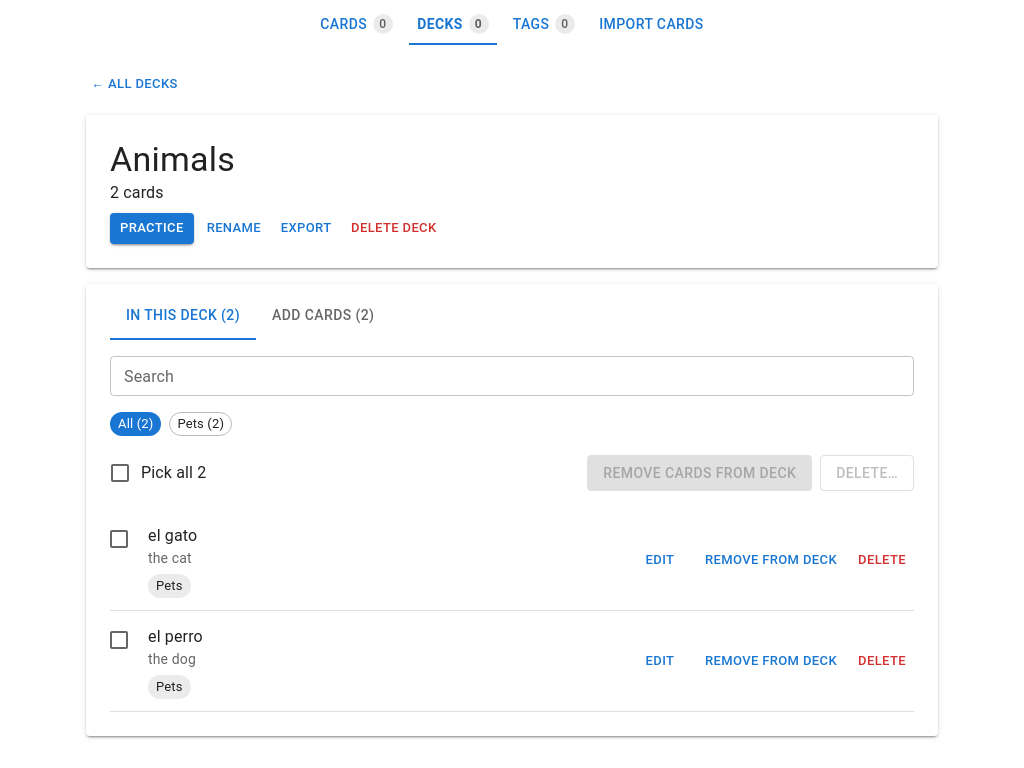
decks › a deck's page › removes a card from the deck with its own button, keeping the card
This screenshot has width=1024, height=768.
(page scrolled)
Step 1. Click the button named "Remove from deck: \"el gato\"" → [771, 560], box x1=700 y1=545 x2=842 y2=576
(page scrolled)
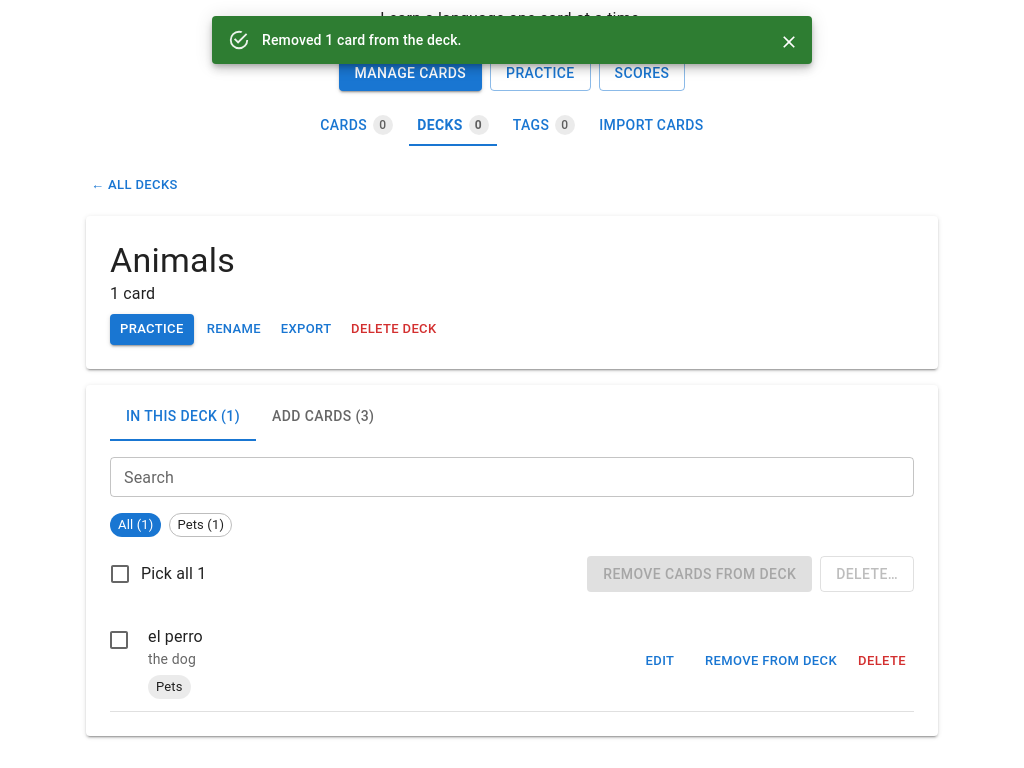
Now the message reads "Removed 1 card from the deck.", box x1=262 y1=32 x2=462 y2=48
Now the tab "Add cards (3)" is shown, box x1=256 y1=393 x2=390 y2=441
